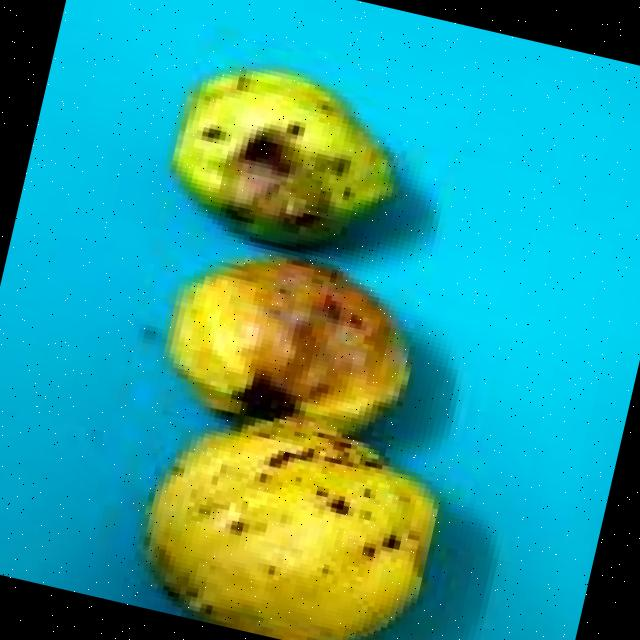Bad_Guava 0 day: (146, 258, 437, 640), (173, 69, 394, 244)
